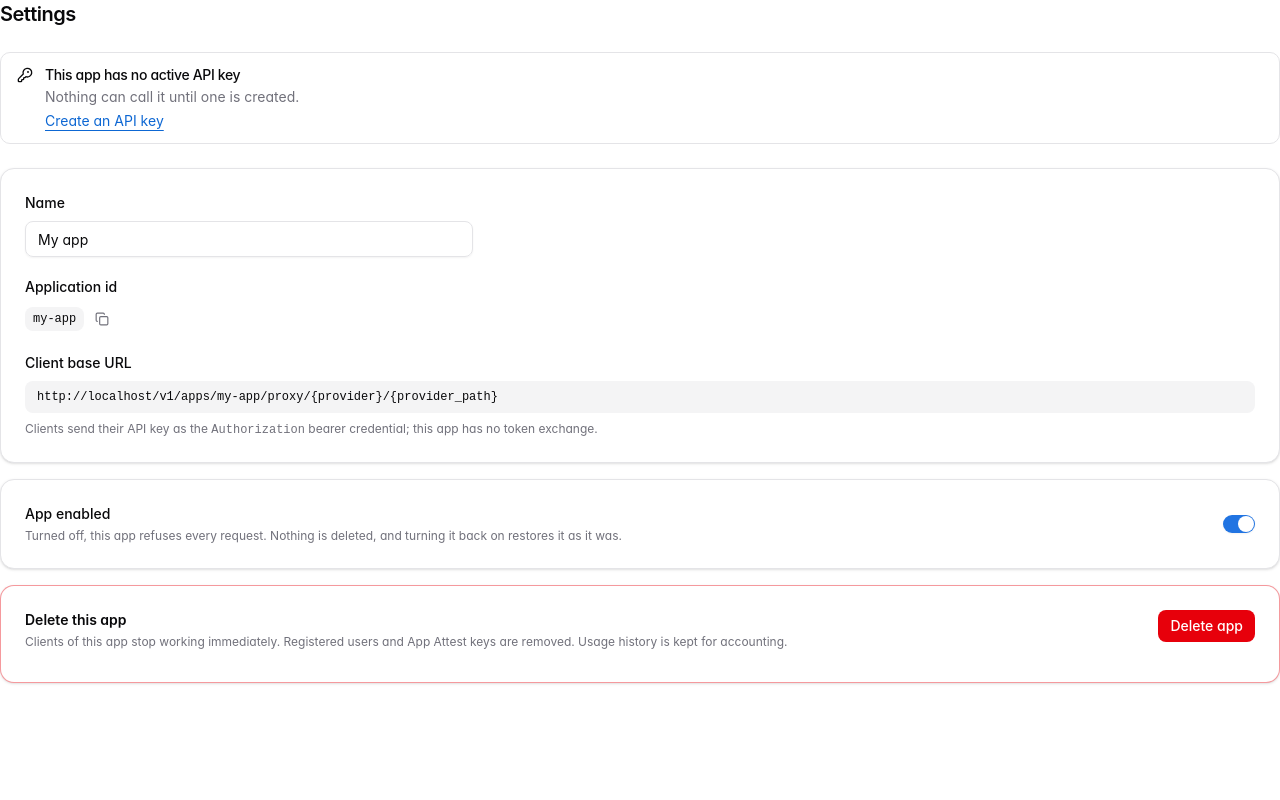
Test: SettingsTab › turns the app off through the draft, to be saved with everything else
The image size is (1280, 800).
Click the switch named "app enabled" at (1239, 524), box [1223, 515, 1255, 533]
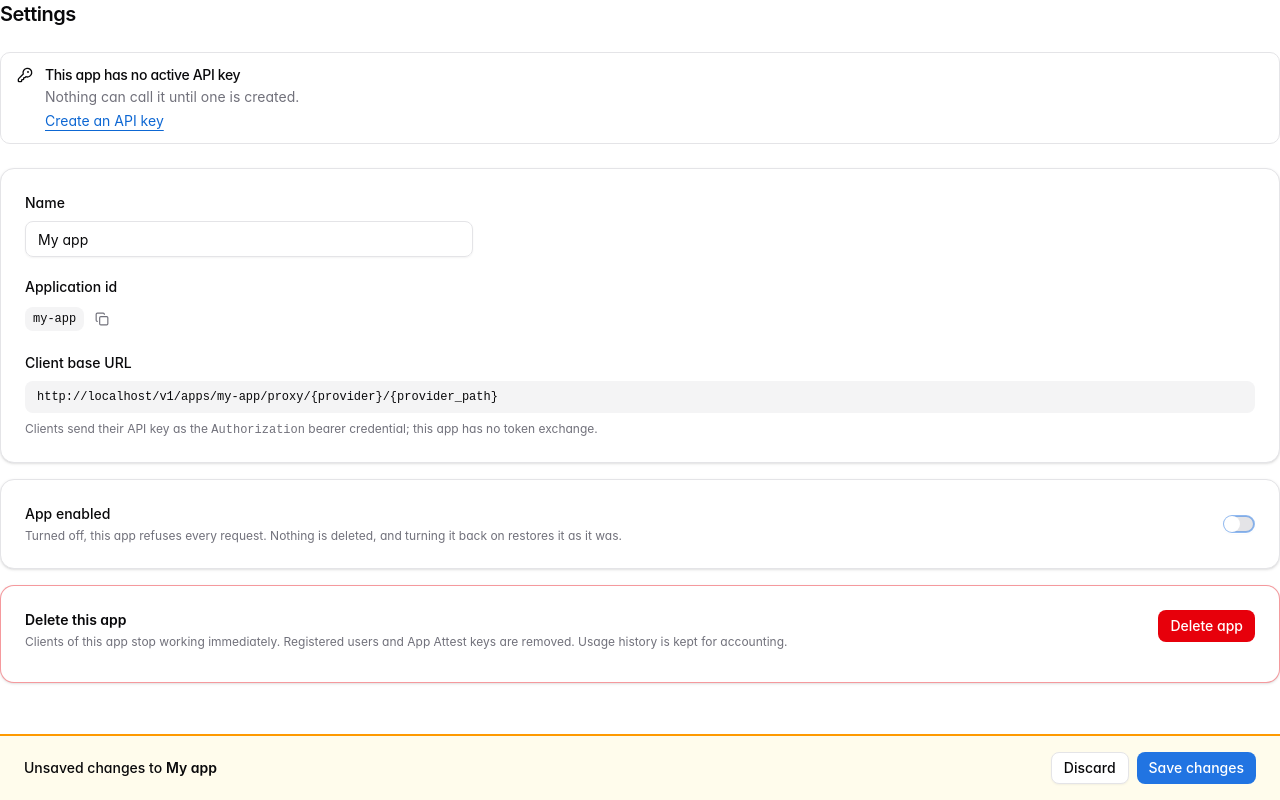
expect the text "Unsaved changes to My app" is shown: met, box [24, 758, 217, 778]
expect the button "Save changes" is shown: met, box [1136, 752, 1256, 784]
